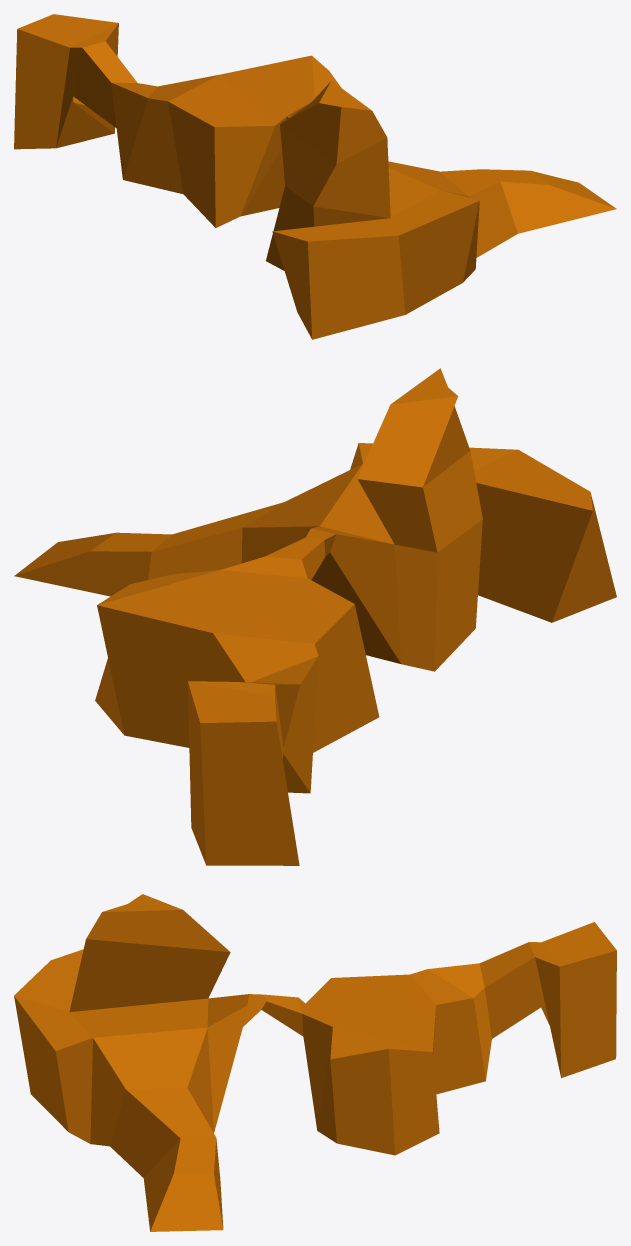
Rendered from rock formation.glb.
3 views of the same model, one above another, from view 1: azimuth 30°, elevation 25°; view 2: azimuth 150°, elevation 25°; view 3: azimuth 270°, elevation 25° (orthographic). The views are drawn at different scales.
Parts seen in each view (by area): view 1: Cube; view 2: Cube; view 3: Cube.
Boxes of the visible parts, box(x1,y1,x2,y2) form: Cube: box(14, 14, 616, 339); Cube: box(14, 368, 616, 865); Cube: box(14, 894, 616, 1231).
Bounding box in the file's own units: 73.31 × 32.46 × 94.78.
